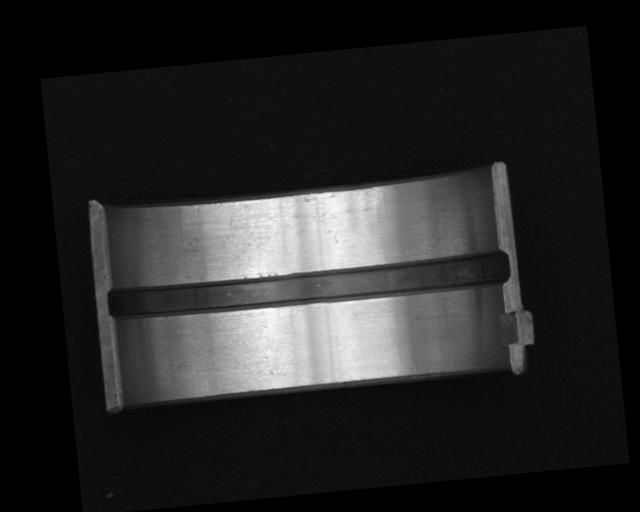gap: (104, 245, 513, 324)
